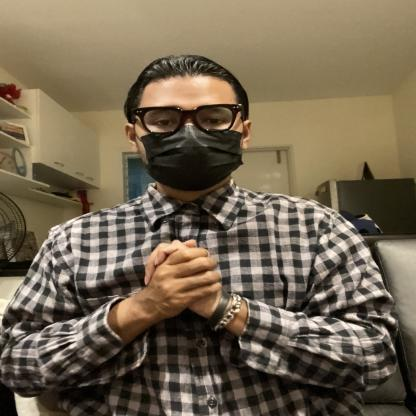Grieve: (53, 221, 300, 335)
